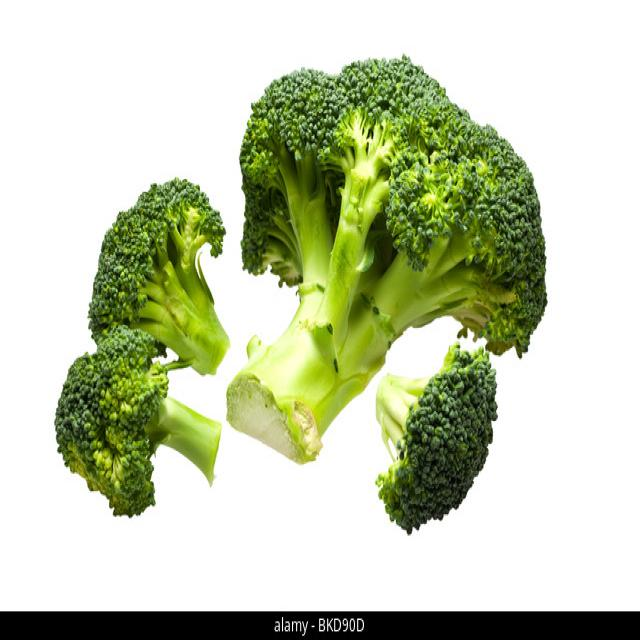broccoli: (221, 45, 554, 464), (52, 329, 229, 523), (86, 175, 236, 376), (371, 327, 501, 536)
